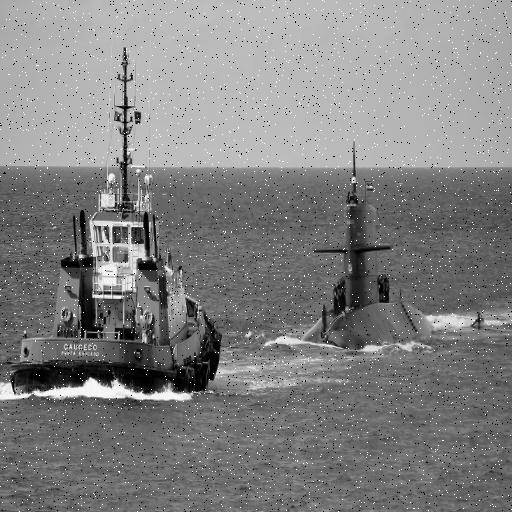submarine: (292, 137, 494, 357)
